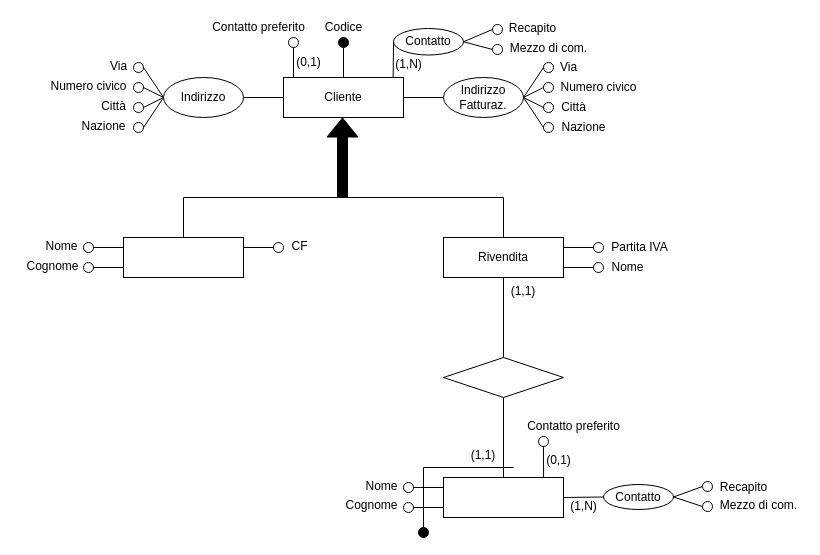
Image size: 820x555. Some labels were removed from this diagram. The box of each missing label's shape, as (x1, y1, x2, y2) in pixels:
Privato: (122, 236, 244, 278)
rappresentazione: (442, 356, 564, 398)
Referente: (442, 476, 564, 518)
